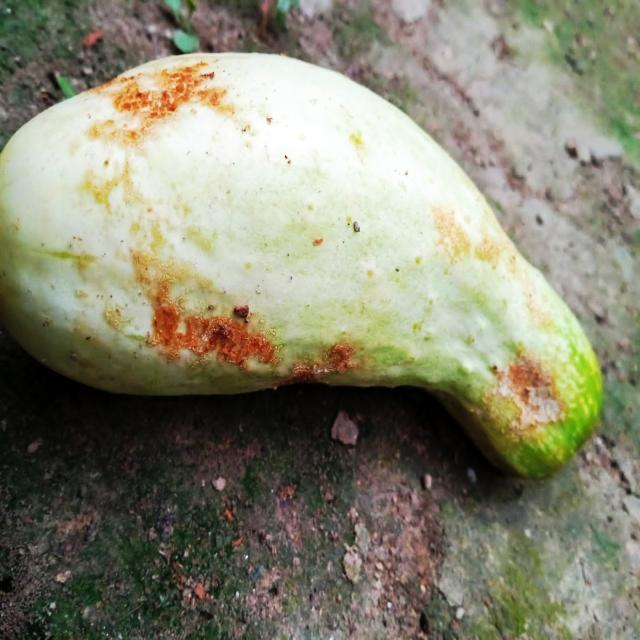Belly-Rot: (142, 289, 362, 385), (86, 55, 256, 147), (422, 194, 534, 284), (490, 333, 572, 441)
